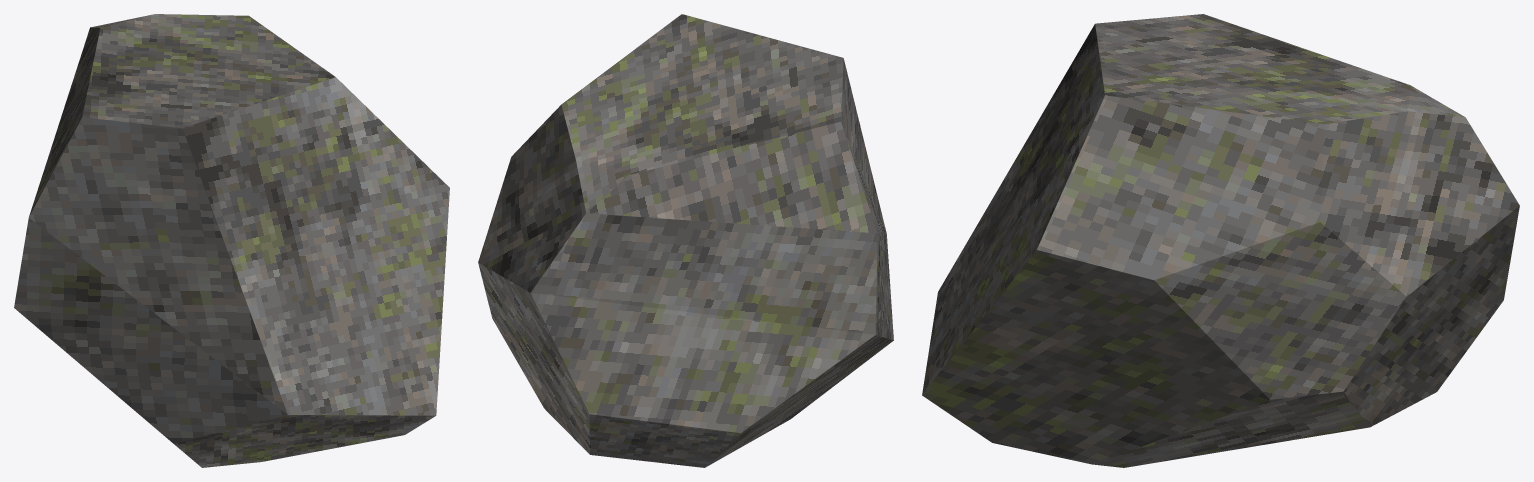
File: rock_01.glb
3 renders of one model, left to right at view 1: azimuth 30°, elevation 25°; view 2: azimuth 150°, elevation 25°; view 3: azimuth 270°, elevation 25°, orthographic. The views are drawn at different scales.
Parts seen in each view (by area): view 1: Rock5; view 2: Rock5; view 3: Rock5.
Boxes of the visible parts, x1,y1,x2,y2 form: Rock5: [14, 14, 449, 467]; Rock5: [478, 14, 893, 467]; Rock5: [922, 14, 1519, 467].
Size of the model in its own units: 0.7171 by 0.7087 by 0.9856.
1 material, 1 textured.
